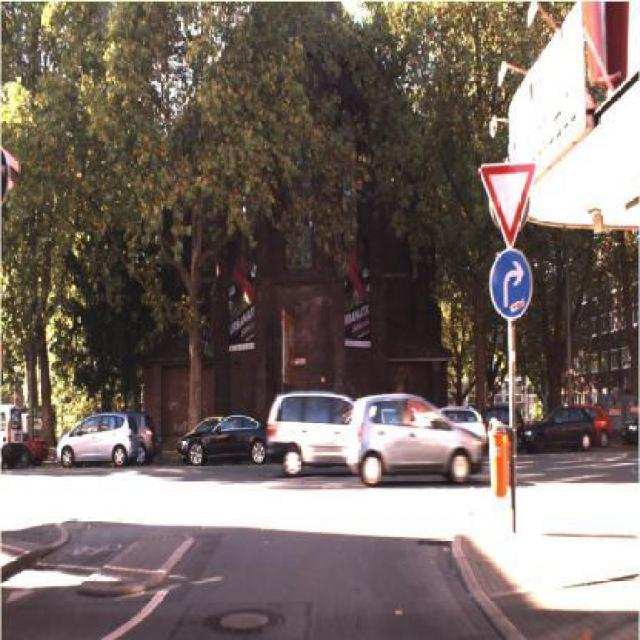Ustap pierwszenstwa: (478, 162, 536, 250)
